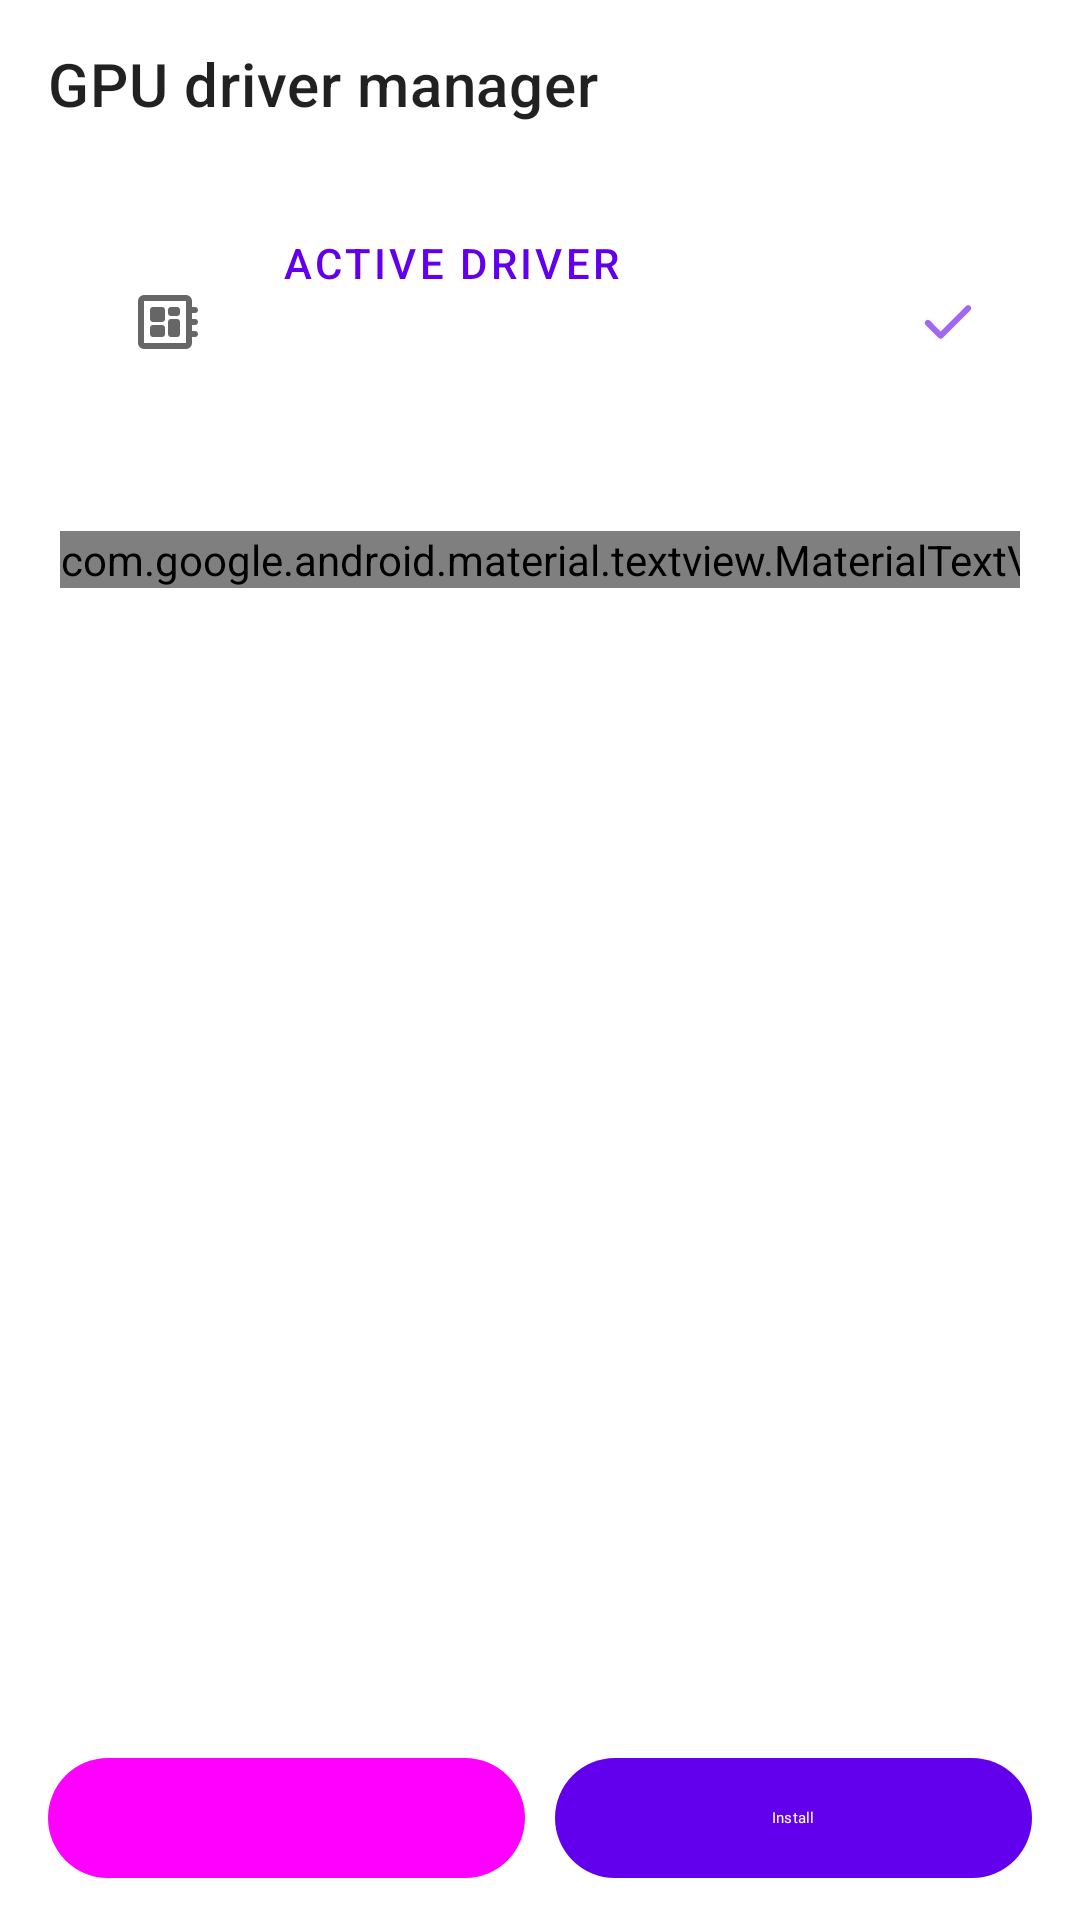

Locate icon controls on the screen. Image size 1080px x 1920px, boxes as {"left": x1, "top": y1, "right": x2, "bottom": y2}.
developer board: {"left": 138, "top": 295, "right": 198, "bottom": 349}
Selected driver: {"left": 925, "top": 305, "right": 971, "bottom": 339}
